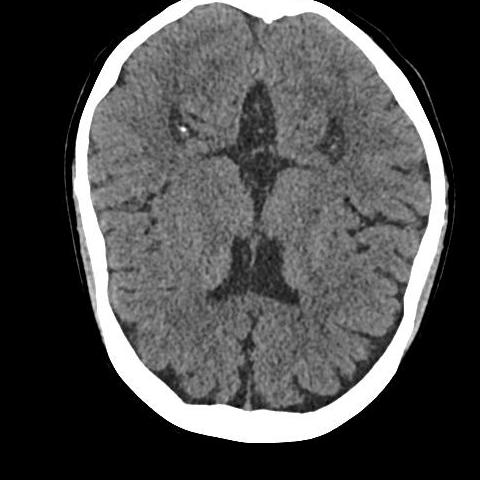Normal_Brain: (8, 1, 480, 470)
